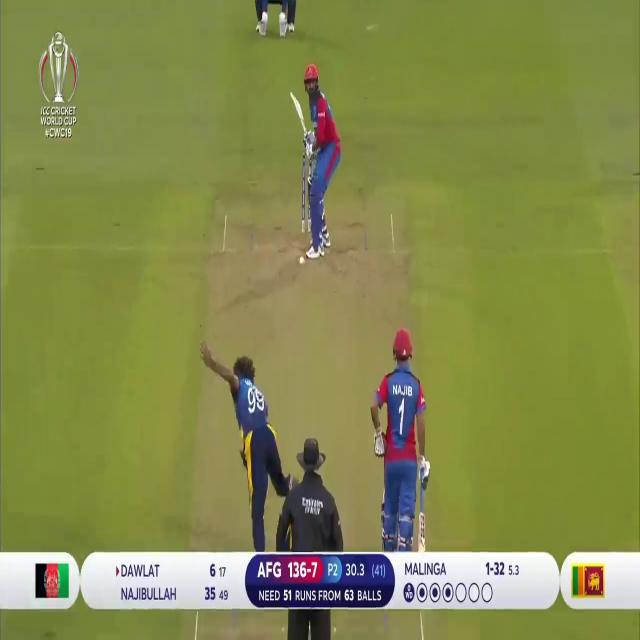ball: (300, 253, 306, 267)
